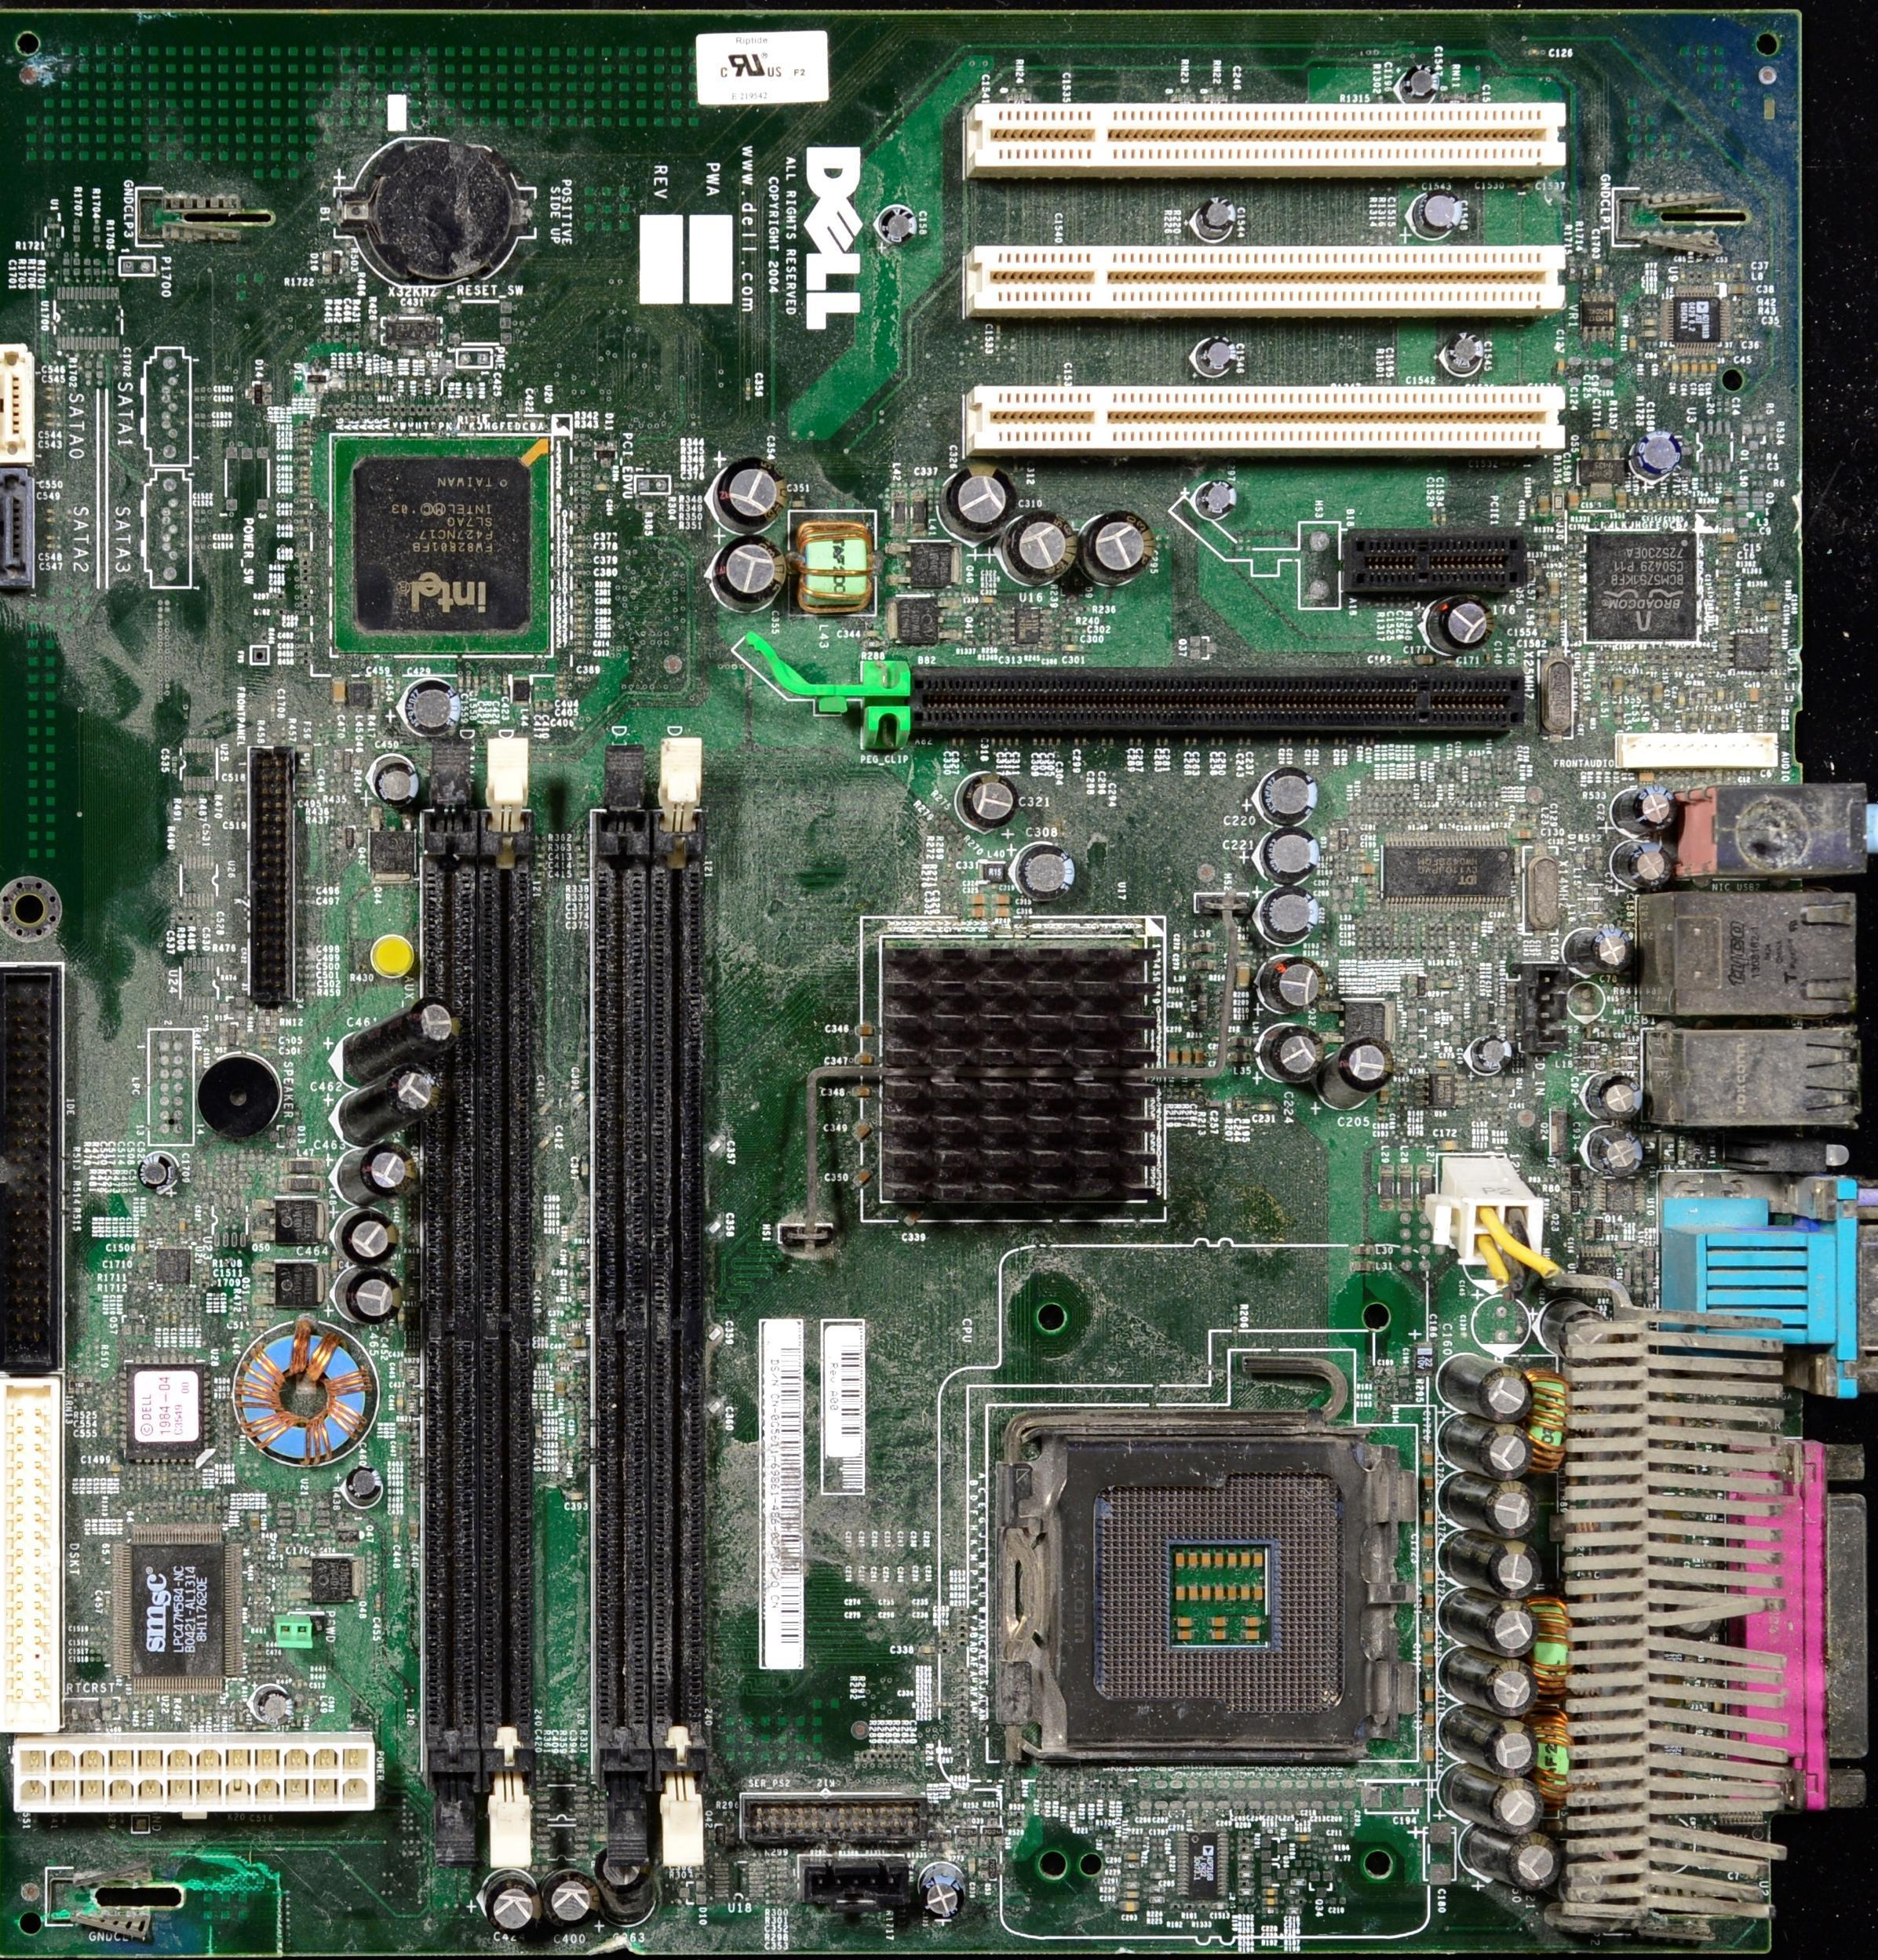Capacitor: (712, 451, 799, 534), (1009, 512, 1082, 588), (1082, 512, 1165, 577), (720, 539, 801, 604), (949, 459, 1016, 533), (1561, 914, 1632, 982), (356, 1133, 421, 1198), (1578, 1125, 1646, 1190), (336, 1203, 407, 1262), (337, 1267, 404, 1331), (1249, 956, 1328, 1010), (1612, 772, 1683, 829), (1257, 765, 1322, 825), (1431, 588, 1501, 644), (1556, 1303, 1617, 1366), (402, 678, 464, 740), (959, 765, 1019, 830), (385, 1055, 445, 1120), (1473, 1362, 1535, 1423), (1501, 1836, 1565, 1895), (1253, 827, 1318, 885), (1268, 1027, 1325, 1094), (1488, 1538, 1541, 1601), (1485, 1719, 1539, 1781), (1249, 882, 1315, 933), (1482, 1782, 1546, 1834), (1340, 1028, 1389, 1091), (1483, 1484, 1539, 1539), (919, 1870, 972, 1929), (1019, 843, 1070, 902), (1610, 841, 1672, 890), (1479, 1425, 1533, 1479), (1594, 1071, 1649, 1123), (1194, 472, 1242, 527), (1187, 192, 1244, 239), (370, 755, 422, 807), (1487, 1607, 1536, 1661), (1488, 1664, 1537, 1718), (411, 1001, 463, 1050), (1414, 184, 1470, 228), (1636, 435, 1687, 481), (1187, 341, 1244, 382), (875, 208, 929, 250), (1441, 325, 1488, 373), (345, 1460, 388, 1508), (1467, 1032, 1513, 1073), (249, 1690, 296, 1727), (136, 1155, 179, 1193), (1402, 66, 1435, 106), (508, 680, 531, 705), (1613, 487, 1628, 516), (1234, 962, 1251, 989), (71, 1408, 115, 1419), (963, 893, 992, 907), (851, 1051, 875, 1069), (332, 679, 346, 707), (1535, 494, 1551, 518), (853, 1120, 871, 1140), (1713, 531, 1739, 546), (988, 905, 1012, 921), (964, 905, 990, 920), (850, 1084, 874, 1099), (1117, 1901, 1140, 1914), (855, 1022, 876, 1040), (1548, 608, 1560, 633), (852, 1170, 870, 1189), (1180, 1046, 1194, 1067), (990, 894, 1011, 907), (1611, 672, 1622, 698), (250, 1510, 261, 1535), (1548, 577, 1559, 602), (60, 257, 71, 286), (1591, 432, 1614, 443), (1654, 683, 1665, 705), (1193, 1047, 1205, 1066), (1166, 1046, 1179, 1066), (1523, 47, 1544, 57), (1593, 264, 1604, 281), (1437, 1142, 1457, 1153), (1764, 601, 1783, 610), (104, 1465, 126, 1474), (1121, 1853, 1143, 1863), (1568, 485, 1577, 508), (102, 1422, 115, 1435), (268, 712, 279, 727), (1697, 357, 1708, 374), (1558, 358, 1566, 377), (1672, 358, 1680, 378), (1119, 1891, 1143, 1899), (571, 533, 589, 541), (1708, 359, 1717, 377), (1062, 643, 1081, 652), (1749, 687, 1758, 705), (1627, 335, 1636, 355), (949, 734, 959, 749), (918, 1646, 935, 1655), (1735, 316, 1751, 326), (1690, 355, 1696, 381), (1439, 508, 1447, 523), (1358, 865, 1377, 873), (1294, 1834, 1313, 1841), (1519, 828, 1532, 839), (1261, 1888, 1279, 1896), (1582, 359, 1591, 373), (593, 484, 611, 491), (1431, 508, 1439, 522), (1682, 359, 1688, 382), (576, 860, 586, 869), (1264, 1900, 1280, 1906), (40, 508, 57, 516), (40, 516, 57, 523), (42, 534, 58, 541), (41, 542, 61, 548), (571, 557, 587, 563), (979, 596, 997, 603), (1395, 594, 1402, 610), (862, 629, 877, 637), (576, 870, 588, 878), (343, 332, 352, 344), (340, 379, 348, 392), (1135, 737, 1143, 749), (1031, 736, 1039, 749), (533, 862, 545, 868), (1591, 359, 1598, 373), (374, 379, 380, 393), (574, 569, 588, 576), (572, 590, 586, 597), (533, 700, 539, 715), (998, 736, 1005, 750), (1016, 736, 1022, 751), (1747, 283, 1756, 294), (574, 617, 585, 625), (573, 632, 582, 642), (372, 674, 378, 690), (556, 690, 566, 700), (533, 871, 545, 878), (332, 379, 339, 392), (1387, 597, 1394, 609), (572, 640, 584, 647), (572, 648, 585, 654), (555, 683, 567, 690), (541, 701, 549, 712), (958, 735, 965, 748), (1074, 737, 1080, 749), (990, 736, 996, 749), (1040, 737, 1047, 749), (1047, 739, 1053, 750), (533, 855, 547, 862), (571, 610, 587, 614), (170, 924, 180, 931), (348, 379, 353, 393), (298, 435, 311, 441), (574, 625, 585, 632), (269, 694, 276, 705), (1155, 736, 1162, 747), (1182, 737, 1189, 748), (939, 1632, 951, 1638), (358, 379, 362, 392), (383, 380, 389, 392), (300, 445, 312, 450), (298, 490, 310, 496), (1006, 737, 1012, 749), (158, 941, 165, 949), (570, 545, 588, 548), (576, 599, 585, 607), (210, 767, 217, 775), (299, 429, 310, 434), (301, 482, 312, 487), (556, 676, 567, 680), (228, 913, 234, 919), (298, 467, 312, 471), (1128, 738, 1134, 745), (196, 828, 201, 836), (576, 676, 584, 680), (575, 855, 589, 859), (225, 815, 232, 821), (209, 831, 215, 836), (204, 911, 211, 916), (302, 474, 310, 480), (212, 924, 216, 933), (1193, 737, 1198, 746), (1163, 738, 1168, 745)
Connector: (10, 1714, 373, 1831), (961, 246, 1568, 314), (965, 103, 1567, 172), (967, 385, 1565, 450), (0, 1375, 76, 1742), (0, 967, 64, 1383), (233, 745, 303, 1016)
IC: (356, 457, 530, 633), (131, 1543, 223, 1674), (1671, 293, 1727, 349), (1187, 1832, 1223, 1898), (893, 596, 941, 644), (153, 1244, 198, 1288), (910, 542, 951, 588), (381, 321, 440, 345)
Resistor: (1413, 1345, 1434, 1376), (250, 644, 268, 664), (133, 1272, 155, 1286), (89, 259, 101, 281), (1228, 1311, 1239, 1338), (71, 257, 82, 280), (344, 750, 353, 774), (1570, 1193, 1582, 1213), (582, 1764, 591, 1784), (1365, 182, 1379, 198), (550, 1759, 559, 1783), (332, 250, 341, 275), (107, 257, 116, 282), (1058, 610, 1075, 623), (1438, 806, 1448, 824), (1564, 260, 1576, 278), (82, 258, 92, 281), (559, 1759, 565, 1785), (1581, 263, 1591, 279), (323, 326, 334, 345), (159, 1503, 171, 1517), (66, 1181, 75, 1201), (1493, 785, 1504, 801), (198, 1280, 213, 1290), (141, 1503, 151, 1518), (884, 1748, 894, 1764), (67, 347, 78, 362), (1366, 790, 1374, 807), (1182, 1087, 1191, 1105), (1242, 1099, 1249, 1117), (1122, 1864, 1140, 1872), (1077, 603, 1093, 611), (1374, 1381, 1386, 1393), (60, 1210, 72, 1224), (1595, 1218, 1602, 1240), (354, 964, 369, 973), (1226, 1098, 1232, 1117), (213, 1497, 221, 1515), (1369, 336, 1380, 347), (574, 456, 584, 467), (64, 1150, 72, 1167), (322, 278, 339, 285), (334, 325, 342, 344), (363, 377, 370, 393), (633, 501, 649, 510), (1403, 591, 1410, 609), (542, 1760, 549, 1783), (1405, 786, 1412, 801), (184, 800, 191, 815), (1197, 1091, 1202, 1113), (187, 1291, 193, 1312), (954, 1640, 969, 1646), (1088, 1783, 1097, 1794), (1237, 1880, 1253, 1887), (1732, 299, 1749, 307), (1734, 309, 1749, 316), (343, 403, 349, 417), (459, 406, 469, 417), (1375, 593, 1383, 609), (1389, 787, 1399, 800), (534, 844, 546, 852), (938, 1639, 950, 1649), (954, 1699, 966, 1707), (408, 405, 416, 416), (370, 324, 377, 344), (297, 658, 315, 663), (1453, 805, 1460, 819), (1173, 1087, 1180, 1101), (956, 1694, 970, 1700), (902, 1749, 909, 1763), (1108, 1780, 1114, 1794), (1070, 1781, 1077, 1796), (701, 1797, 714, 1805), (1012, 1811, 1027, 1818), (1236, 1837, 1250, 1844), (1237, 1845, 1252, 1853), (367, 403, 375, 416), (450, 405, 457, 418), (192, 800, 198, 817), (176, 913, 186, 923), (957, 1624, 968, 1632), (957, 1685, 968, 1693), (957, 1716, 968, 1725), (574, 439, 584, 448), (862, 642, 881, 647), (534, 835, 545, 841), (958, 1634, 969, 1640), (1012, 1822, 1024, 1828), (1239, 1862, 1252, 1870), (351, 330, 357, 343), (430, 379, 438, 392), (357, 404, 363, 416), (441, 405, 449, 417), (345, 242, 349, 258), (1375, 1393, 1384, 1401), (1375, 1402, 1384, 1411), (297, 990, 312, 995), (1166, 1087, 1172, 1102), (938, 1648, 948, 1656), (877, 1749, 883, 1761), (894, 1749, 900, 1763), (1037, 1780, 1042, 1794), (1052, 1780, 1058, 1794), (1116, 1780, 1121, 1794), (1044, 1781, 1048, 1796), (425, 406, 432, 417), (334, 405, 340, 417), (326, 405, 333, 418), (575, 512, 586, 519), (301, 567, 312, 574), (301, 574, 312, 581), (276, 592, 286, 599), (417, 384, 422, 395), (392, 384, 398, 395), (385, 405, 390, 417), (573, 473, 585, 479), (573, 520, 585, 524), (261, 632, 267, 643), (175, 834, 182, 843), (575, 846, 585, 853), (224, 1500, 228, 1517), (958, 1709, 967, 1716), (574, 480, 583, 486), (575, 502, 583, 511), (301, 594, 310, 599), (297, 652, 313, 657), (957, 1743, 968, 1749), (958, 1752, 968, 1758), (418, 404, 423, 414), (476, 404, 482, 415), (350, 406, 356, 416), (399, 406, 405, 416), (392, 406, 398, 416), (467, 406, 473, 416), (434, 406, 439, 416), (300, 559, 310, 566), (224, 806, 231, 811), (188, 915, 195, 922), (195, 924, 202, 931), (954, 1667, 968, 1672), (573, 584, 587, 588), (296, 811, 304, 815), (276, 609, 286, 614), (871, 1751, 875, 1762), (1101, 1781, 1105, 1794), (1456, 791, 1460, 802), (577, 836, 588, 840), (195, 938, 202, 943), (862, 1751, 867, 1761), (301, 603, 311, 608), (300, 818, 303, 825), (574, 497, 583, 501)
Transistor: (287, 1554, 366, 1607), (253, 1198, 325, 1245), (253, 1261, 323, 1309), (337, 1521, 364, 1548)
